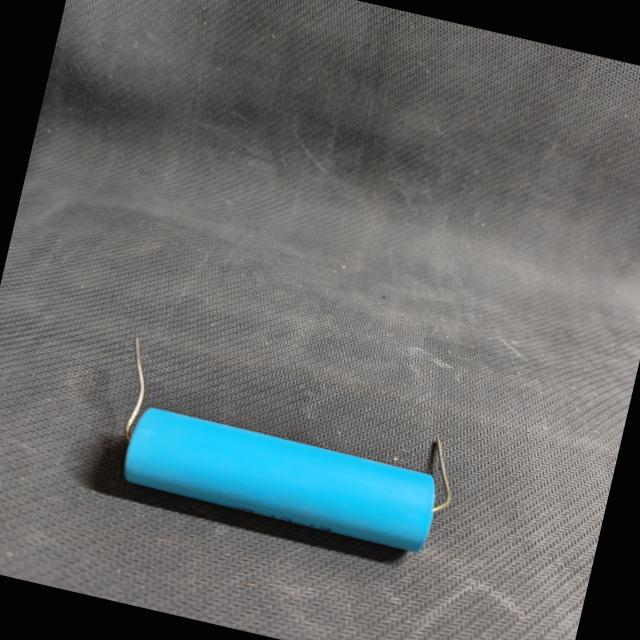capacitor: (94, 338, 451, 561)
